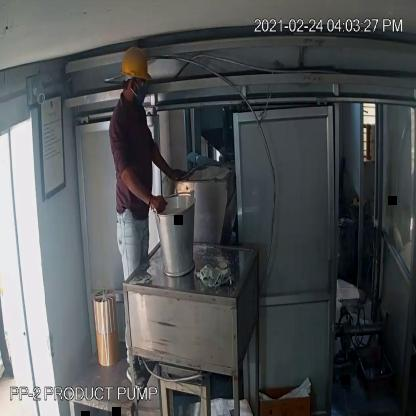helmet: (119, 42, 152, 77)
